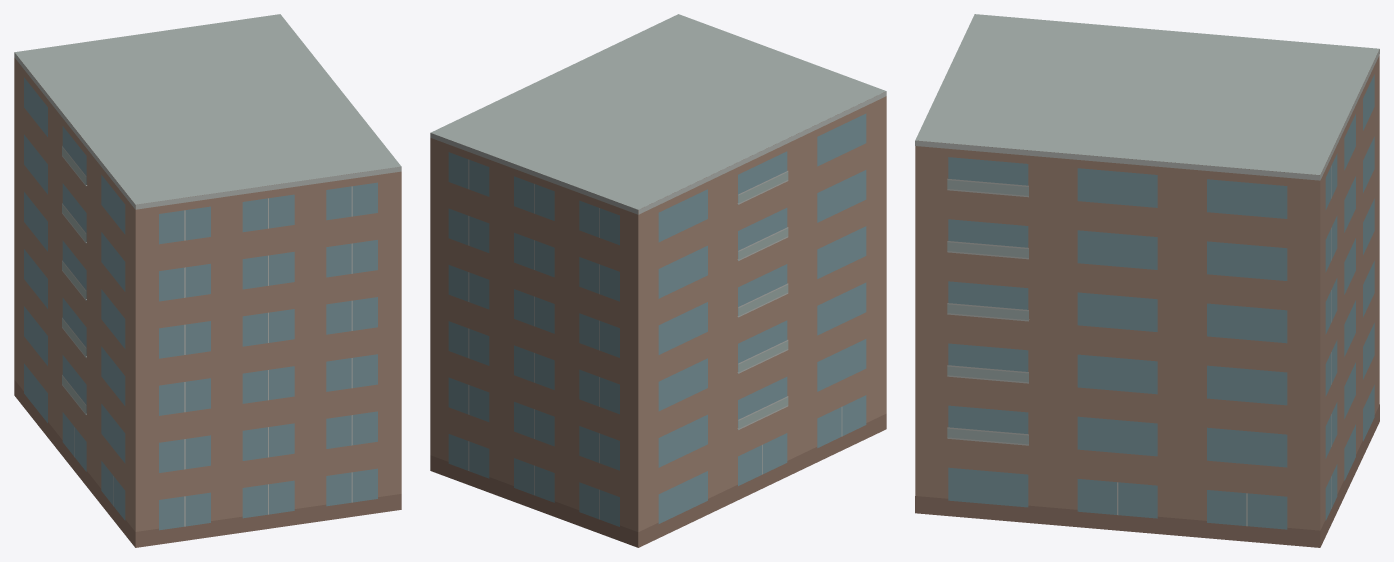
The model's file is survey-upis-32706607.glb.
3 renders of one model, left to right at view 1: azimuth 30°, elevation 25°; view 2: azimuth 150°, elevation 25°; view 3: azimuth 270°, elevation 25°, orthographic. The views are drawn at different scales.
Visible parts, largest first — view 1: survey-upis-32706607.tmp; view 2: survey-upis-32706607.tmp; view 3: survey-upis-32706607.tmp.
Boxes of the visible parts, x1,y1,x2,y2 form: survey-upis-32706607.tmp: (14, 14, 401, 547); survey-upis-32706607.tmp: (430, 14, 886, 547); survey-upis-32706607.tmp: (915, 14, 1379, 547).
Size of the model in its own units: 15.4 by 16.6 by 18.77.
